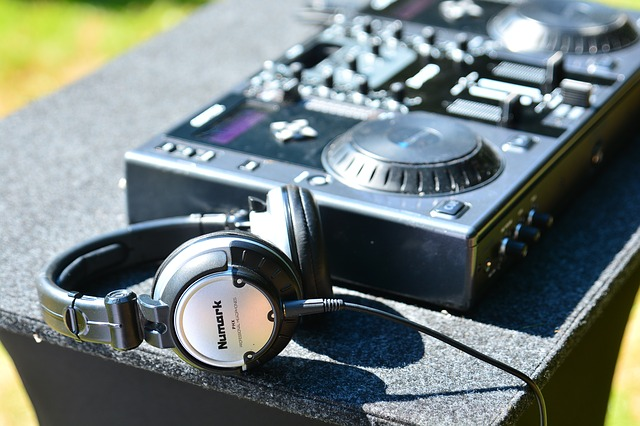headphones: (36, 183, 324, 372)
